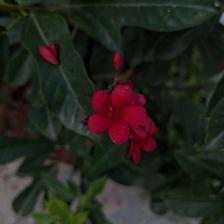jatropha: (89, 85, 151, 146)
